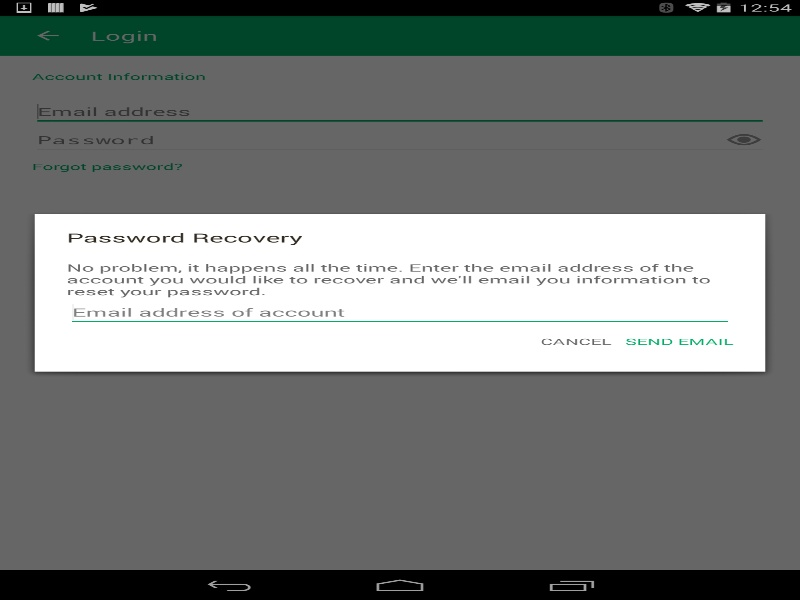Button: (624, 326, 733, 356), (540, 326, 611, 356)
Input: (66, 298, 733, 326)
